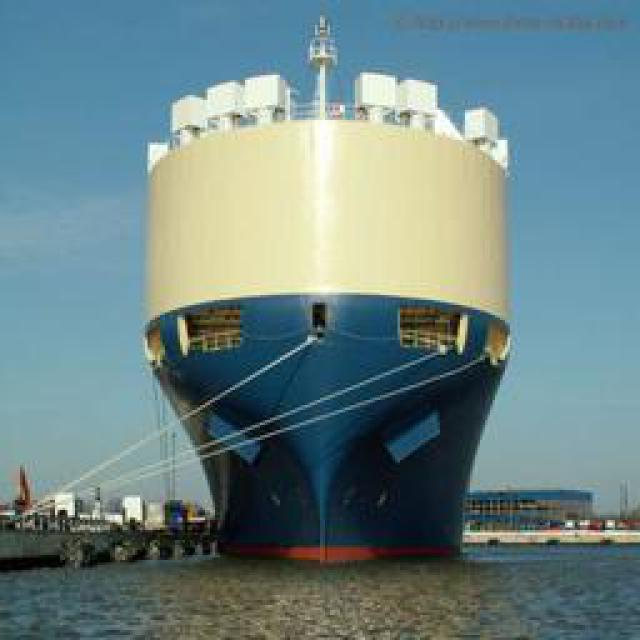Ship: (134, 125, 517, 560)
